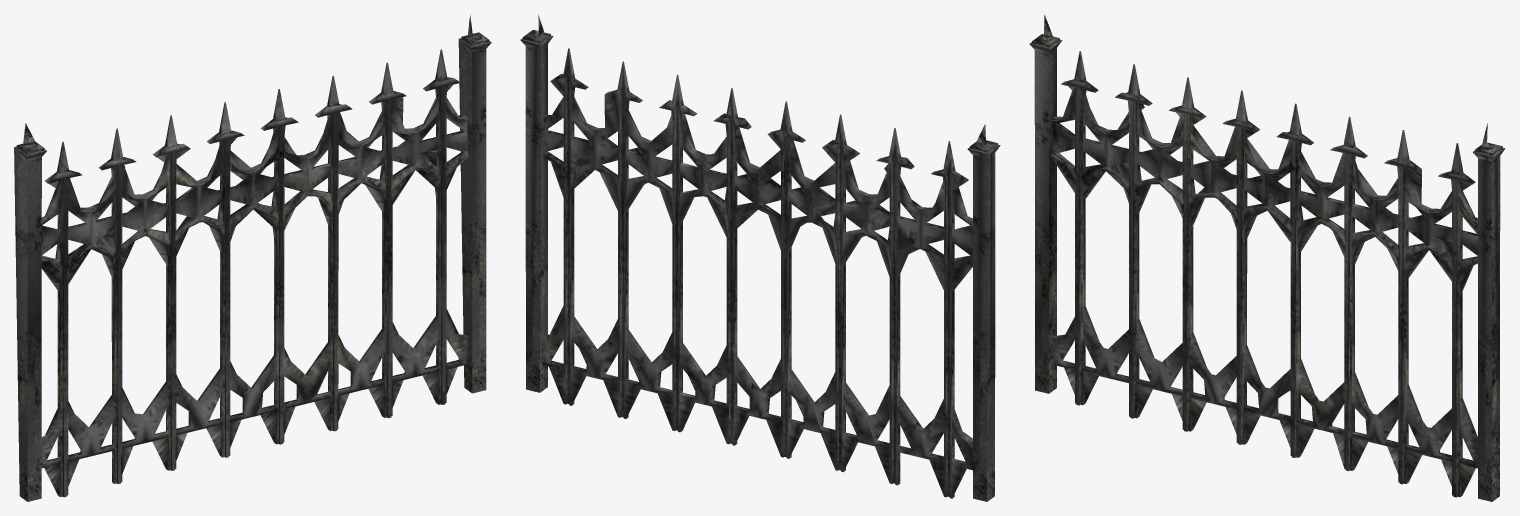
File: MetalRailing.glb
3 views of the same model, side by side, from view 1: azimuth 30°, elevation 25°; view 2: azimuth 150°, elevation 25°; view 3: azimuth 330°, elevation 25° (orthographic).
Parts seen in each view (by area): view 1: Cube20.001; view 2: Cube20.001; view 3: Cube20.001.
Part boxes in pixels (left/top/right/bottom): Cube20.001: left=14, top=14, right=491, bottom=501; Cube20.001: left=520, top=14, right=1000, bottom=501; Cube20.001: left=1029, top=15, right=1505, bottom=501.
Bounding box in the file's own units: 2.08 × 1.63 × 0.0933.
Materials: 1 (1 with a texture image).
